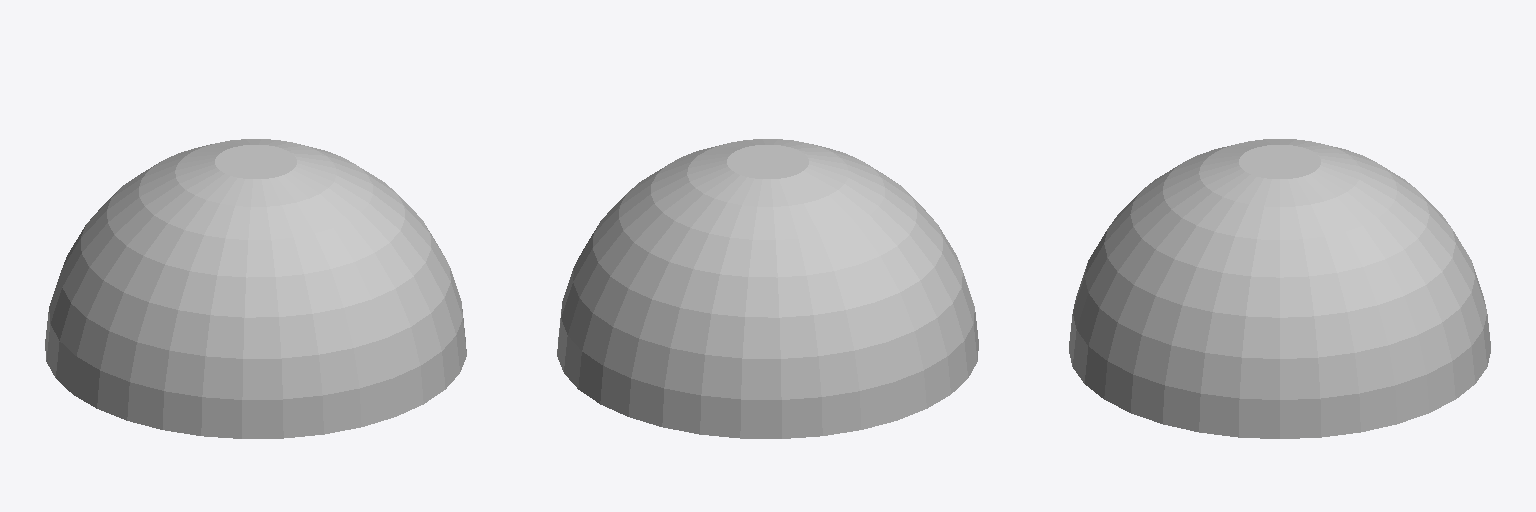
File: dome.obj
3 renders of one model, left to right at view 1: azimuth 30°, elevation 25°; view 2: azimuth 150°, elevation 25°; view 3: azimuth 270°, elevation 25°, orthographic.
Visible parts, largest first — view 1: Sphere; view 2: Sphere; view 3: Sphere.
Part boxes in pixels (left/top/right/bottom): Sphere: left=45, top=139, right=466, bottom=438; Sphere: left=557, top=139, right=978, bottom=438; Sphere: left=1069, top=139, right=1490, bottom=438.
Size of the model in its own units: 2 by 0.9808 by 2.